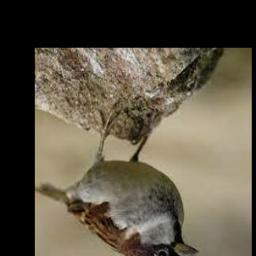Sparrow: (35, 109, 200, 256)
